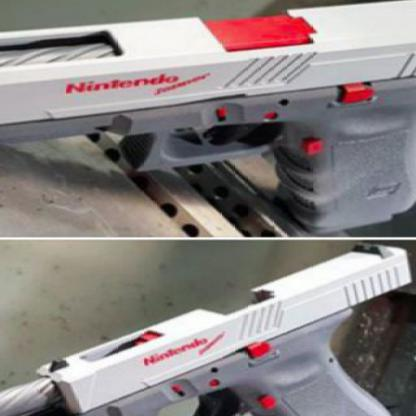gun: (0, 0, 415, 230), (0, 239, 415, 415)
